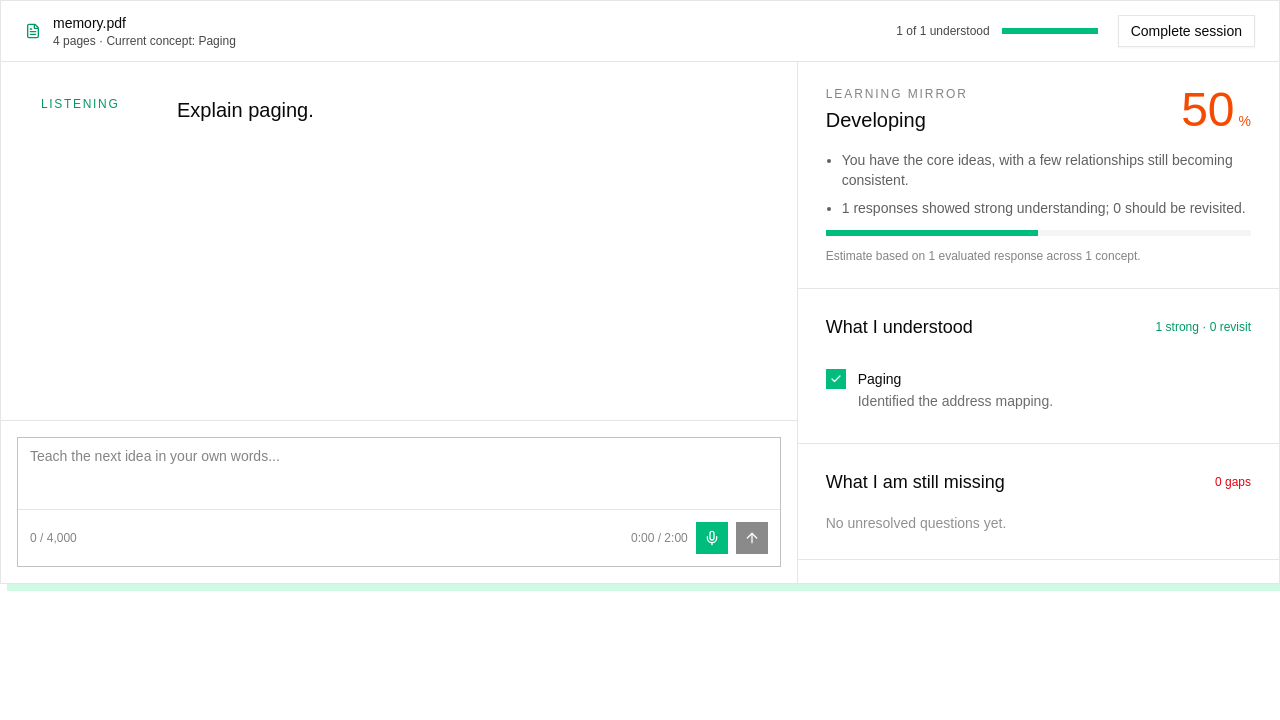
SessionWorkspace › records voice as the primary input and inserts the transcript for review
The image size is (1280, 720).
Expected: the text "Explain paging." is shown, top-left (177, 99), bottom-right (314, 121)
Click the button named "Record".
click(712, 538)  # box top-left (696, 522), bottom-right (728, 554)
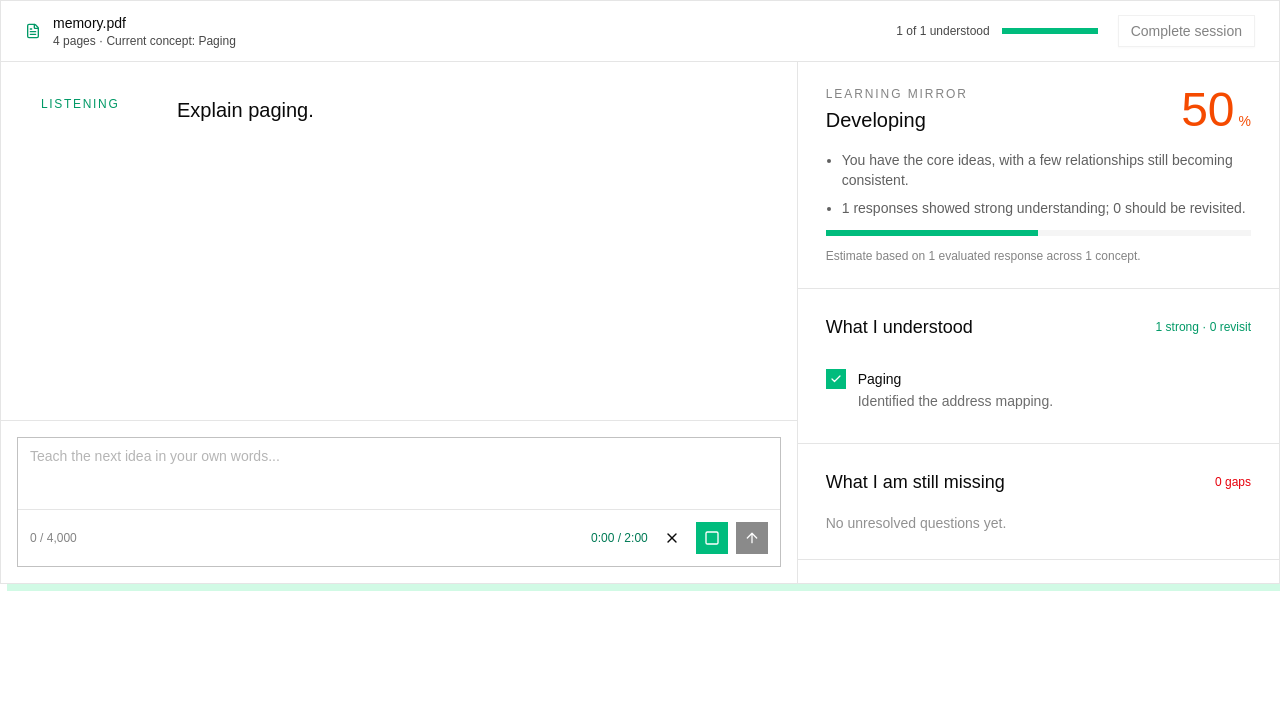
Expected: the text "0:00 / 2:00" is shown, top-left (591, 530), bottom-right (648, 546)
Expected: the button named "Stop recording" is shown
Click the button named "Stop recording".
click(712, 538)  # box top-left (696, 522), bottom-right (728, 554)
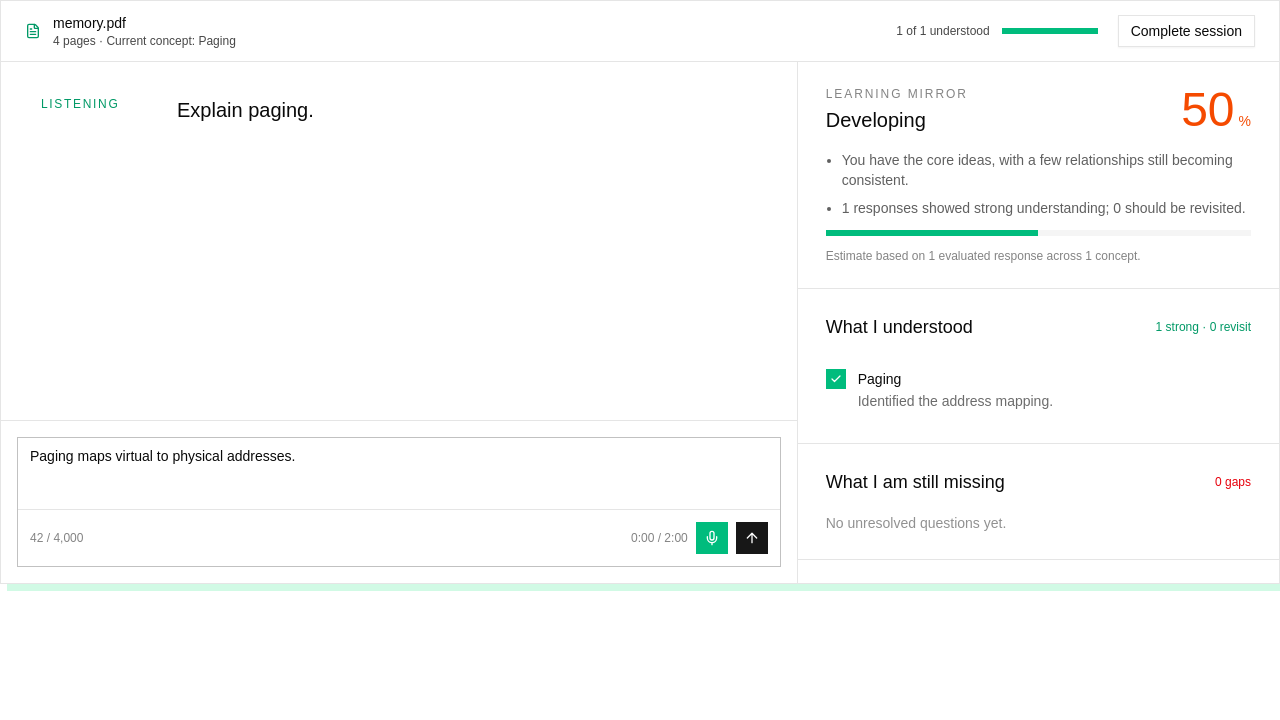
Expected: the text box showing "Paging maps virtual to physical addresses." is shown, top-left (18, 438), bottom-right (780, 502)
